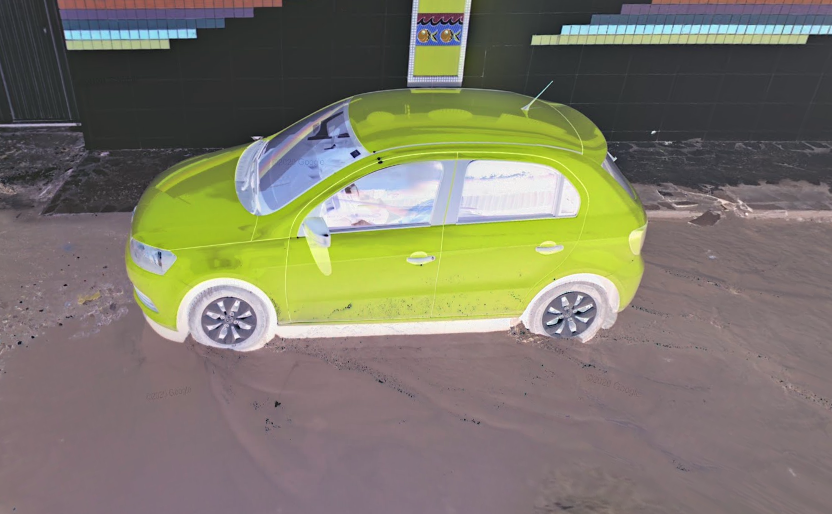car: (123, 77, 653, 351)
